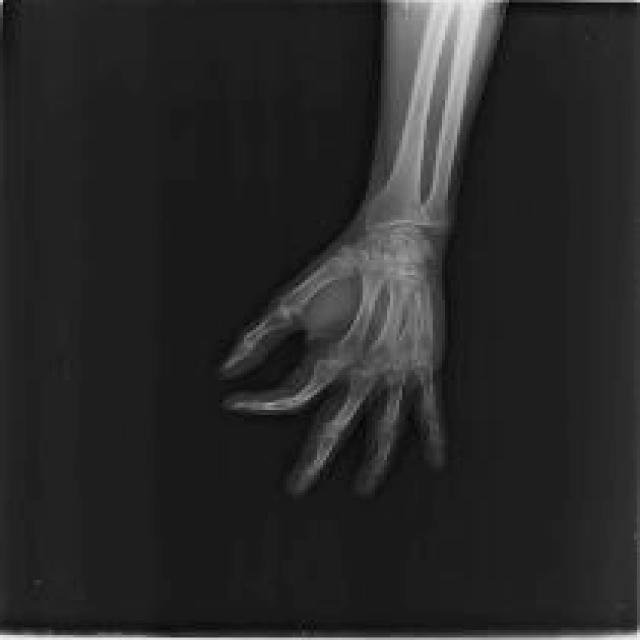normal: (217, 0, 489, 497)
